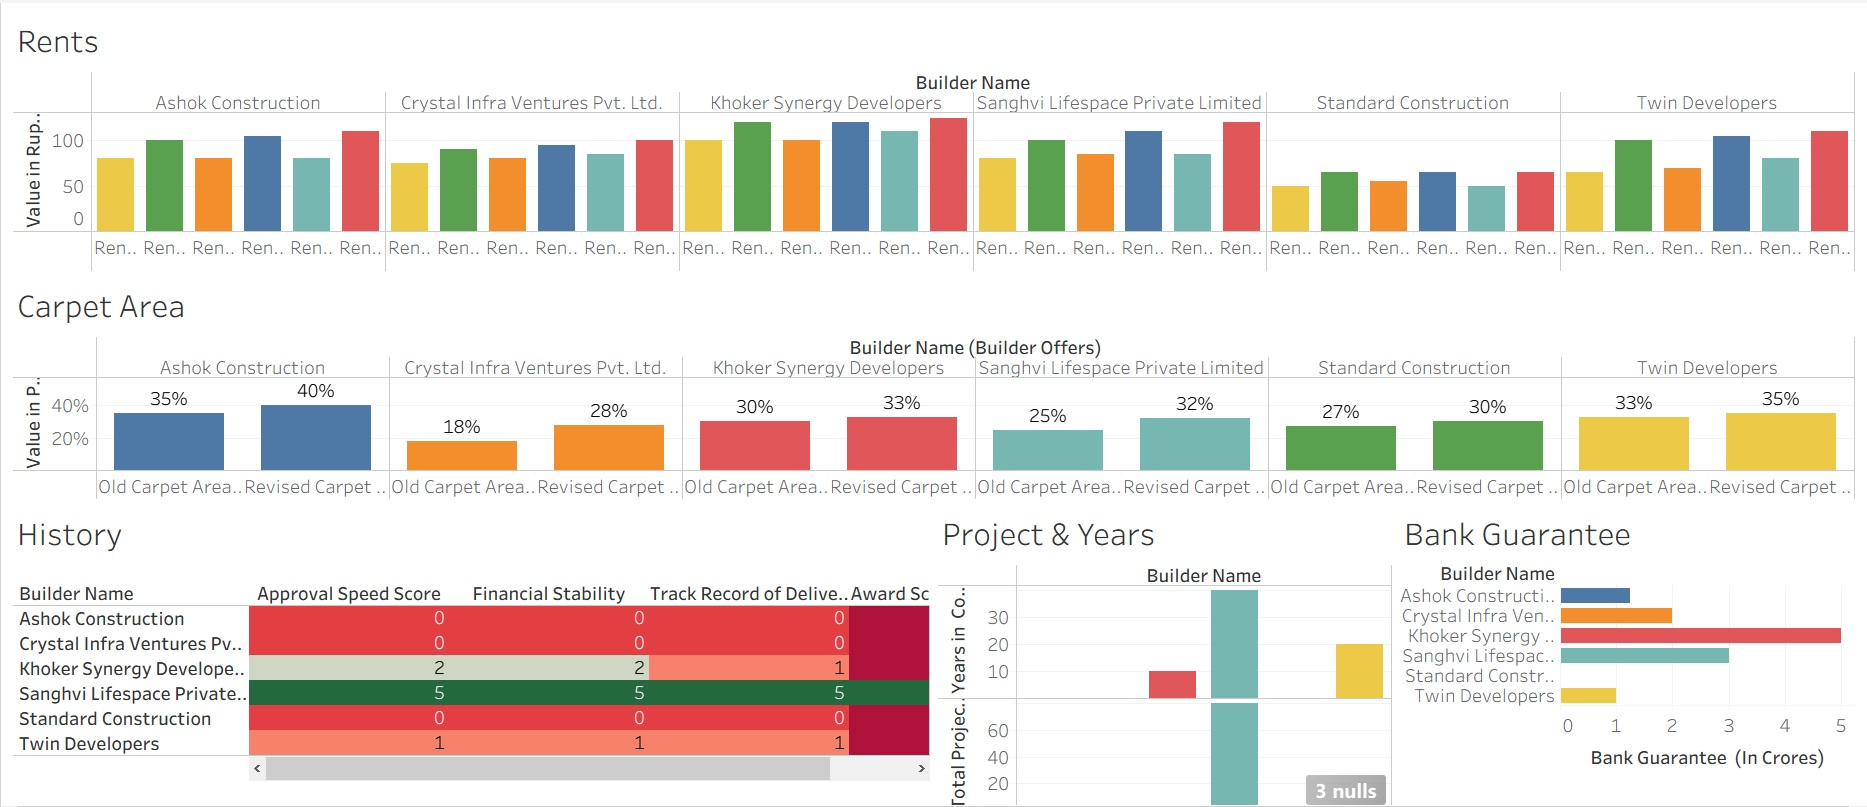

Layout of this report page (visuals, bound fields, positions):
{"tool":"tableau","page":{"name":"Dashboard 1","canvas":[1000,1000],"units":"permille","ordinal":0},"visuals":[{"type":"worksheet","title":"Rents","mark":"Bar","cols":["Builder Name"],"box":[4.2,9.8,906.5,316]},{"type":"legend","title":"Rents","param":"[federated.00jt7ye032jtc51e04oqv17cakp1].[:Measure Names]","box":[910.7,9.8,85,146.1]},{"type":"legend","title":"Project & Years","param":"[federated.00jt7ye032jtc51e04oqv17cakp1].[none:Builder Name:nk]","box":[910.7,155.9,85,146.1]},{"type":"legend","title":"History","param":"[federated.00jt7ye032jtc51e04oqv17cakp1].[sum:Calculation_0249086124408835:qk]","box":[910.7,302,85,99]},{"type":"worksheet","title":"Carpet Area","mark":"Automatic","cols":["Builder Name (Builder Offers)"],"box":[4.2,325.8,906.5,316]},{"type":"legend","title":"History","param":"[federated.00jt7ye032jtc51e04oqv17cakp1].[sum:Calculation_0249086123814914:qk]","box":[910.7,401,85,99]},{"type":"legend","title":"History","param":"[federated.00jt7ye032jtc51e04oqv17cakp1].[sum:Calculation_0249086122803201:qk]","box":[910.7,500,85,99]},{"type":"legend","title":"History","param":"[federated.00jt7ye032jtc51e04oqv17cakp1].[sum:Calculation_0249086139158532:qk]","box":[910.7,599,85,99]},{"type":"worksheet","title":"Bank Guarantee","mark":"Automatic","rows":["Builder Name"],"cols":["Bank Guarantee  (In Crores)"],"box":[4.2,641.8,304.7,348.4]},{"type":"worksheet","title":"History","mark":"Square","rows":["Builder Name"],"box":[308.9,641.8,334.5,348.4]},{"type":"worksheet","title":"Project & Years","mark":"Bar","rows":["Years in  Construction Business","Total Projects  Completed"],"cols":["Builder Name"],"box":[643.5,641.8,267.3,348.4]},{"type":"filter","title":"Bank Guarantee","param":"[federated.00jt7ye032jtc51e04oqv17cakp1].[none:Builder Name (Builder Offers):nk]","box":[910.7,698,85,146.1]},{"type":"legend","title":"Carpet Area","param":"[federated.00jt7ye032jtc51e04oqv17cakp1].[none:Builder Name (Builder Offers):nk]","box":[910.7,844.1,85,146.1]}]}

Visuals, with their boxes on the dashboard's canvas, which has no fixed pixel size, in thousandths of its width and height (x1, y1, x2, y2). These are canvas units, not pixel positions in the 1867x807 screenshot, which may show the page scaled, cropped or inside an application window:
"Rents" worksheet (Bar marks): locate(4, 10, 911, 326)
"Rents" legend: locate(911, 10, 996, 156)
"Project & Years" legend: locate(911, 156, 996, 302)
"History" legend: locate(911, 302, 996, 401)
"Carpet Area" worksheet: locate(4, 326, 911, 642)
"History" legend: locate(911, 401, 996, 500)
"History" legend: locate(911, 500, 996, 599)
"History" legend: locate(911, 599, 996, 698)
"Bank Guarantee" worksheet: locate(4, 642, 309, 990)
"History" worksheet (Square marks): locate(309, 642, 643, 990)
"Project & Years" worksheet (Bar marks): locate(644, 642, 911, 990)
"Bank Guarantee" filter: locate(911, 698, 996, 844)
"Carpet Area" legend: locate(911, 844, 996, 990)
